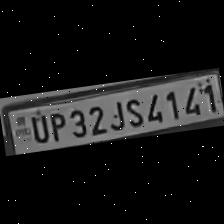1: (160, 88, 180, 122), (199, 80, 219, 114)
2: (83, 102, 106, 135)
3: (64, 105, 88, 139)
4: (177, 84, 201, 118), (142, 92, 164, 125)
J: (104, 98, 125, 132)
P: (44, 109, 67, 143)
S: (122, 95, 144, 129)
U: (25, 111, 48, 144)
